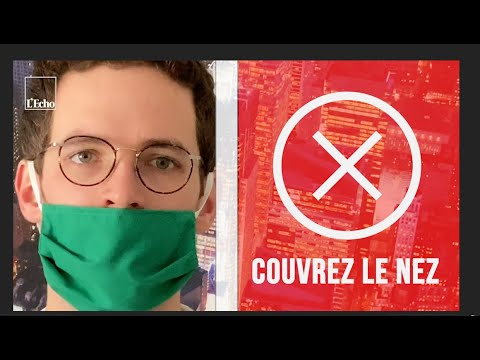with_incorrect_mask: (21, 71, 215, 309)
